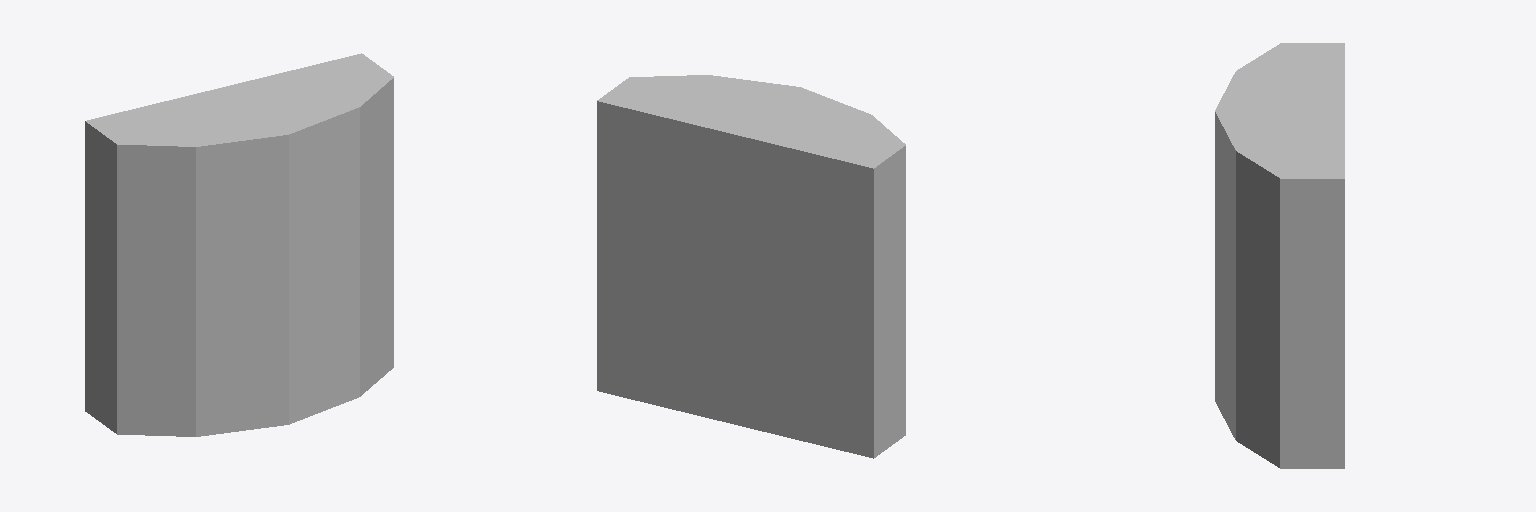
Rendered from sandstone_bridge_front_center_muddy_top.obj.
The picture shows the model from 3 angles: view 1: azimuth 30°, elevation 25°; view 2: azimuth 150°, elevation 25°; view 3: azimuth 270°, elevation 25°; orthographic projection.
Visible parts, largest first — view 1: middle_end; view 2: middle_end; view 3: middle_end.
Boxes of the visible parts, x1,y1,x2,y2 form: middle_end: [85, 53, 393, 436]; middle_end: [597, 75, 905, 458]; middle_end: [1215, 43, 1344, 468].
Bounding box in the file's own units: 1 × 1 × 0.4072.